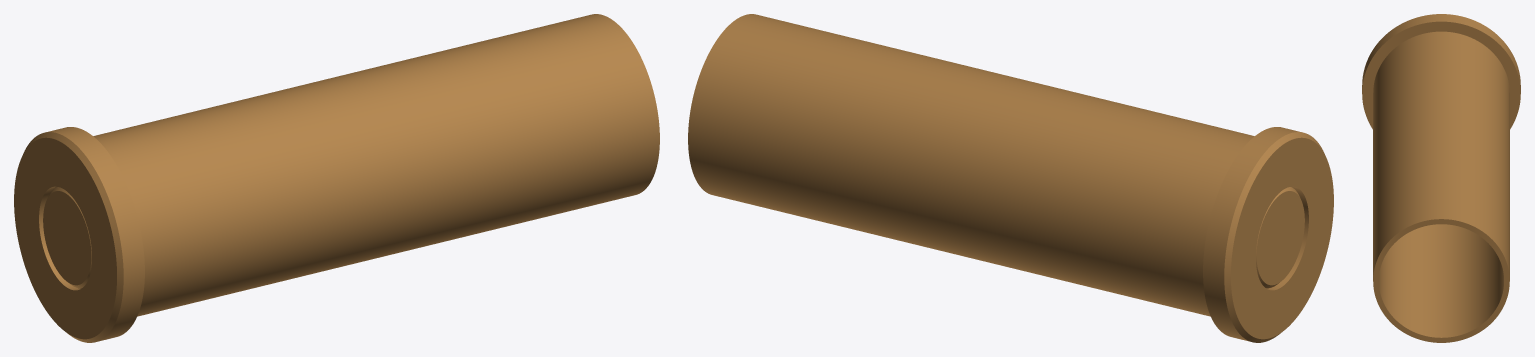
Rendered from case-357_h_magnum.glb.
3 views of the same model, side by side, from view 1: azimuth 30°, elevation 25°; view 2: azimuth 150°, elevation 25°; view 3: azimuth 270°, elevation 25° (orthographic). The views are drawn at different scales.
Visible parts, largest first — view 1: cartridge:cartridge-model; view 2: cartridge:cartridge-model; view 3: cartridge:cartridge-model.
Part boxes in pixels (x1=…): cartridge:cartridge-model: x1=14, y1=14, x2=659, y2=342; cartridge:cartridge-model: x1=688, y1=14, x2=1333, y2=342; cartridge:cartridge-model: x1=1362, y1=14, x2=1520, y2=342.
Bounding box in the file's own units: 0.0328 × 0.0112 × 0.0112.
